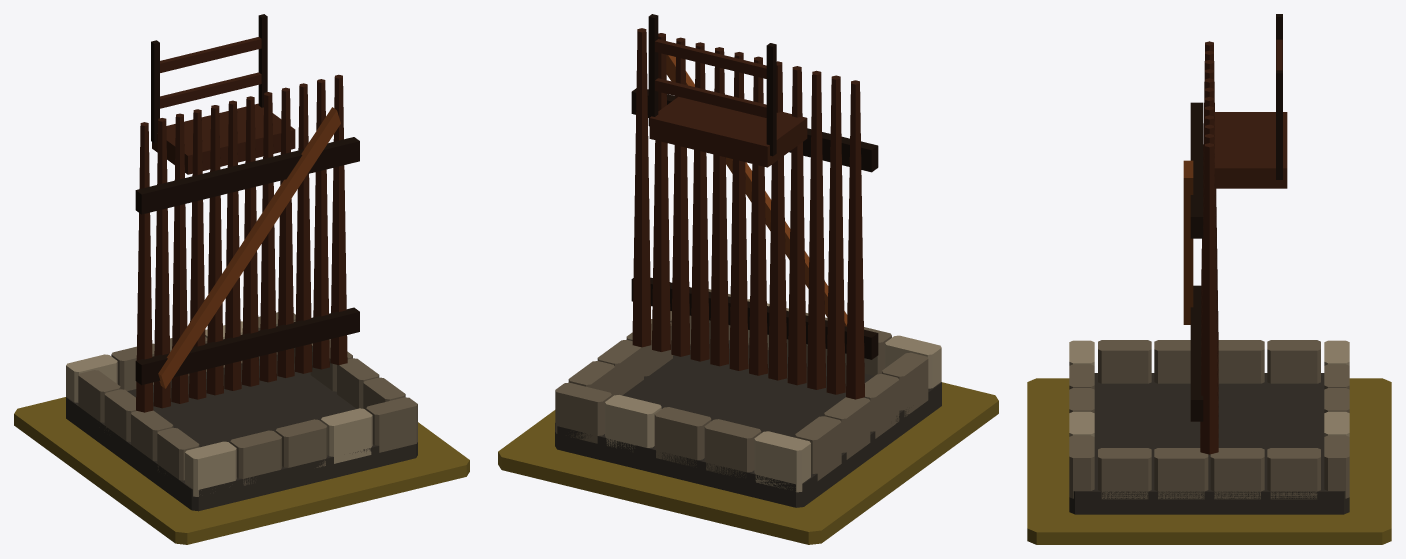
Rendered from wall_t5.glb.
3 renders of one model, left to right at view 1: azimuth 30°, elevation 25°; view 2: azimuth 150°, elevation 25°; view 3: azimuth 270°, elevation 25°, orthographic. The views are drawn at different scales.
Visible parts, largest first — view 1: MMR | wall | T05 Architecture.001, MMR | wall | Tier 05 Ground.001; view 2: MMR | wall | T05 Architecture.001, MMR | wall | Tier 05 Ground.001; view 3: MMR | wall | T05 Architecture.001, MMR | wall | Tier 05 Ground.001.
Boxes of the visible parts, x1,y1,x2,y2 form: MMR | wall | T05 Architecture.001: (66,14,417,511); MMR | wall | Tier 05 Ground.001: (14,397,469,544); MMR | wall | T05 Architecture.001: (555,14,941,507); MMR | wall | Tier 05 Ground.001: (498,382,998,544); MMR | wall | T05 Architecture.001: (1069,14,1349,514); MMR | wall | Tier 05 Ground.001: (1027,378,1391,544).
Size of the model in its own units: 1.3 by 1.67 by 1.3.
Materials: 1 (1 with a texture image).
